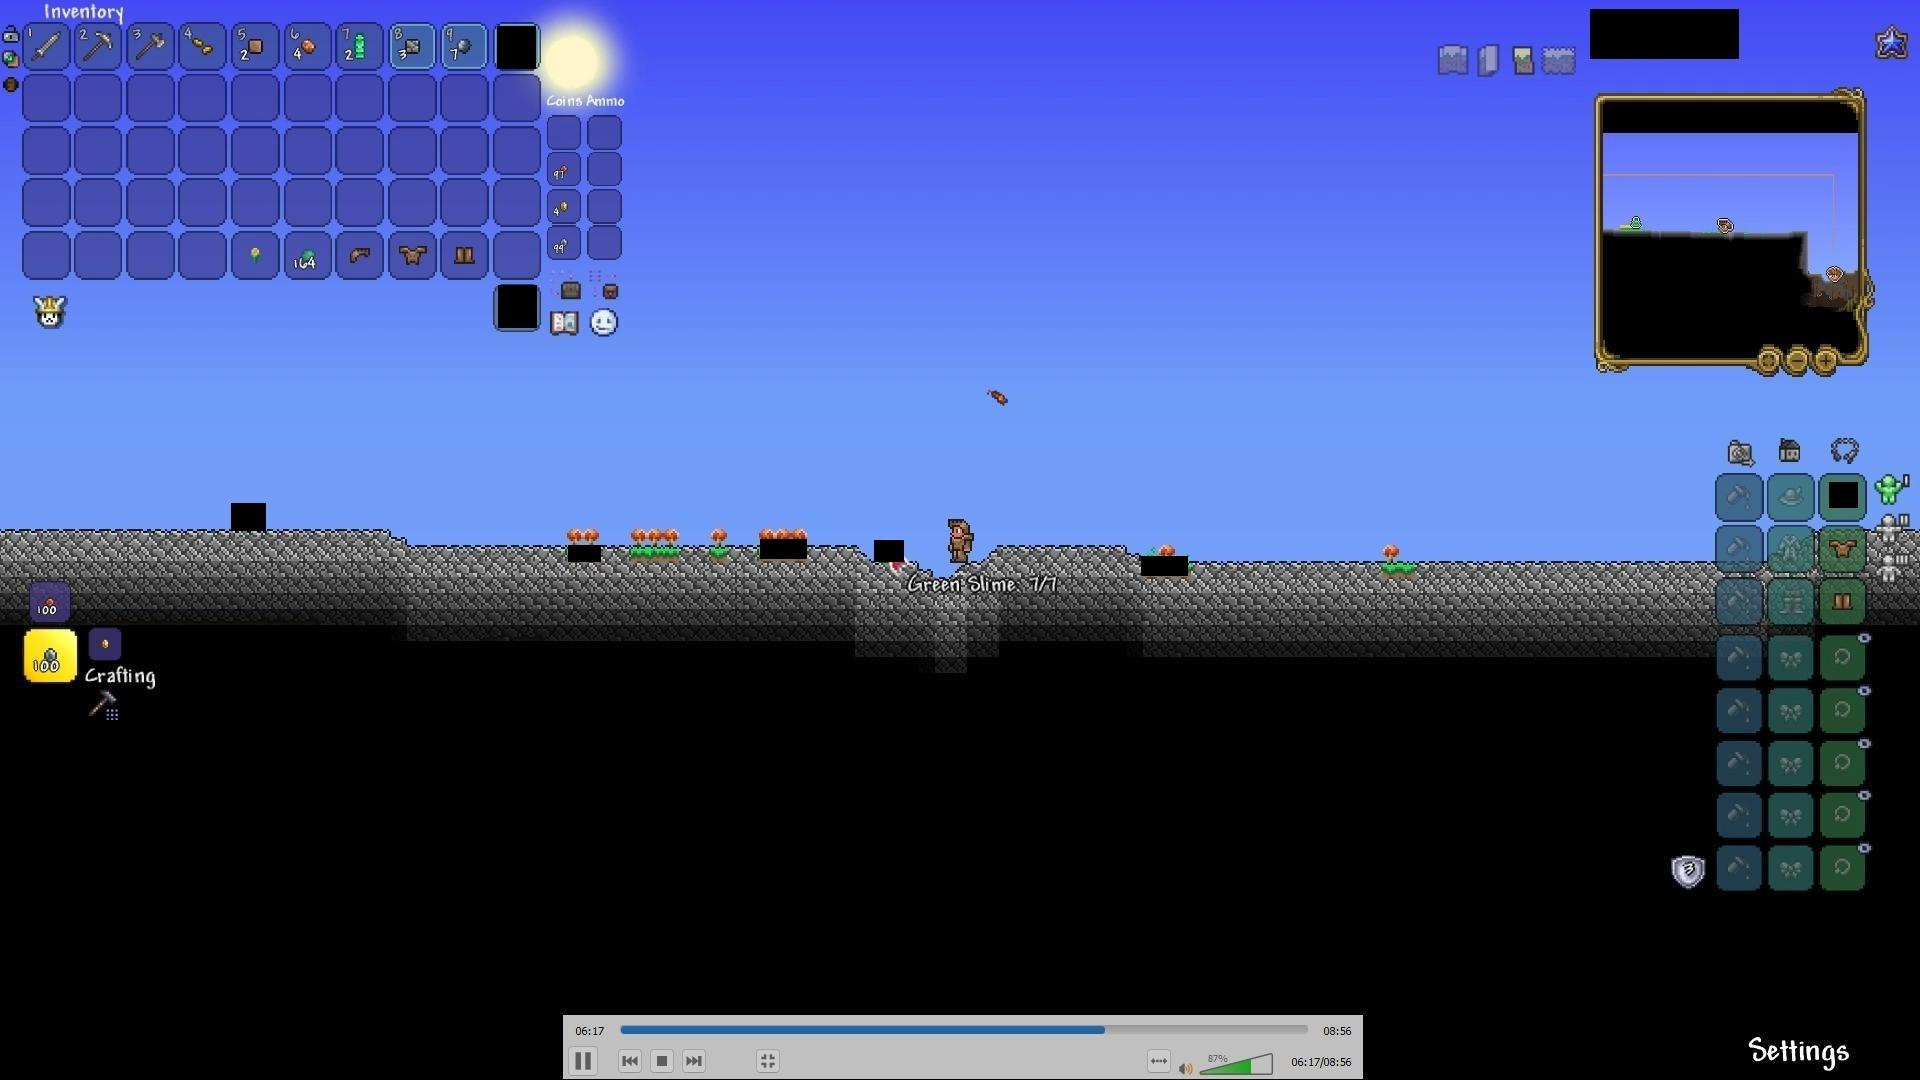breastplate: (397, 243, 429, 262), (1830, 537, 1859, 558)
dirt: (633, 543, 679, 563), (1382, 559, 1415, 575)
helmet: (345, 243, 375, 268)
legs: (1832, 588, 1857, 615), (452, 243, 477, 266)
